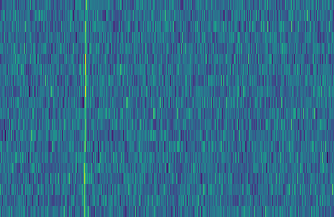signal: (77, 0, 88, 217)
